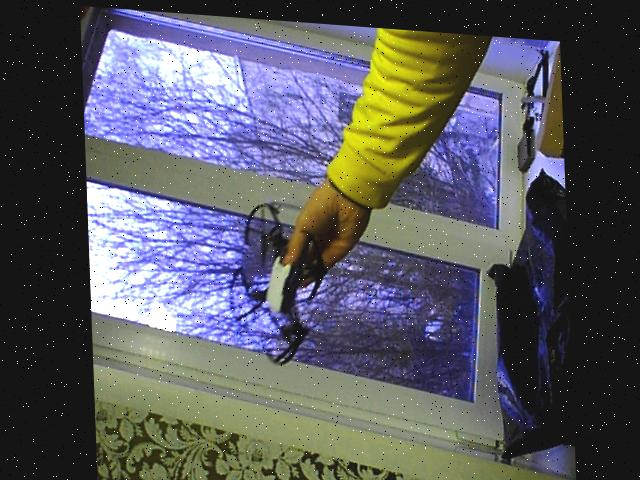drone: (216, 189, 331, 378)
